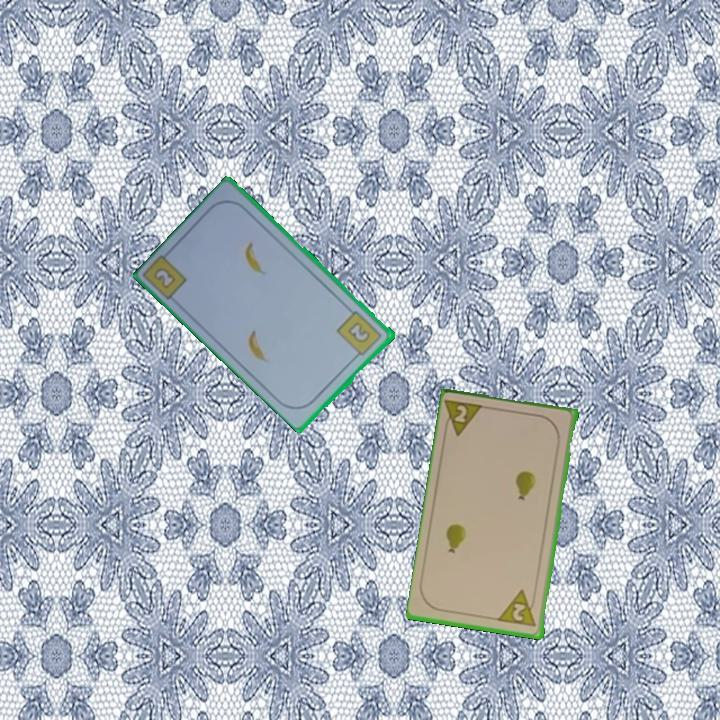2b: (334, 307, 386, 362), (152, 266, 177, 289)
2p: (441, 396, 488, 440), (496, 587, 539, 630)
